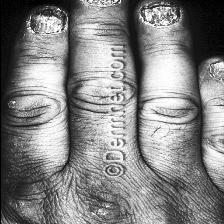Non-Cancerous Skin Condition: (17, 6, 67, 66), (139, 0, 188, 51), (72, 0, 125, 32), (202, 60, 224, 97)
